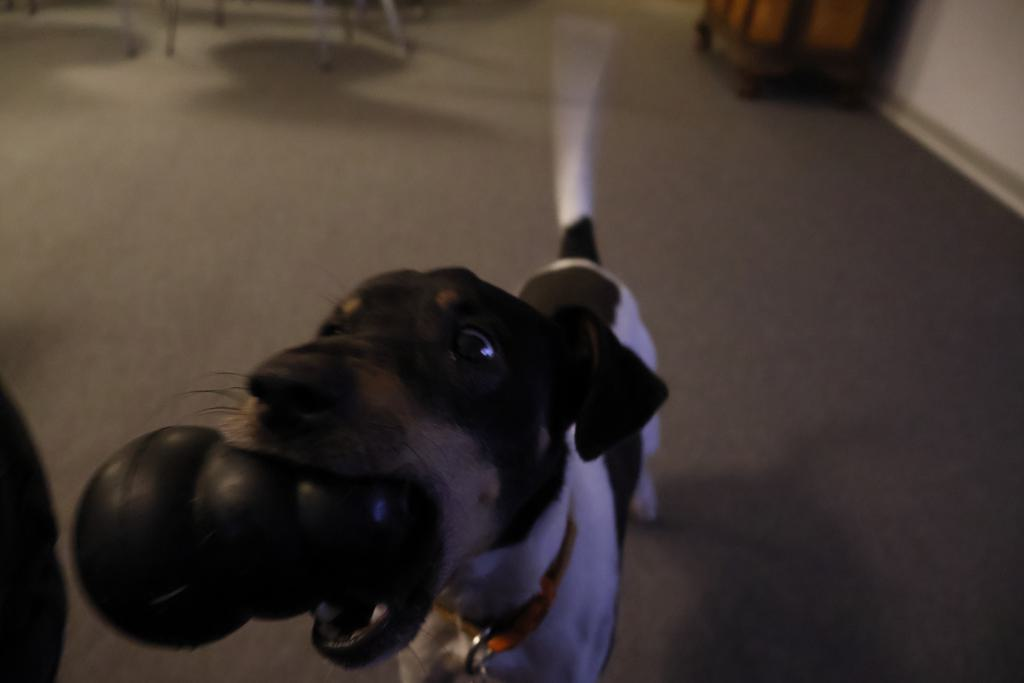Dog: (179, 8, 692, 683)
Humanoid: (0, 358, 95, 683)
